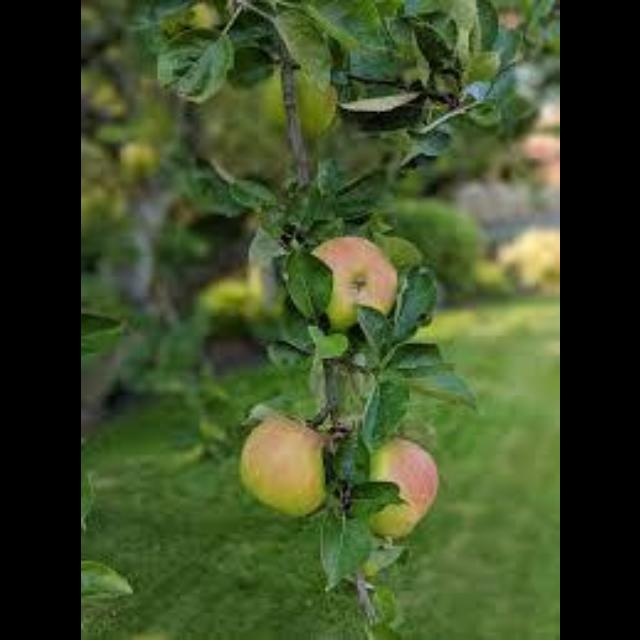apple: (238, 415, 322, 514), (312, 237, 396, 329), (369, 437, 436, 536)
